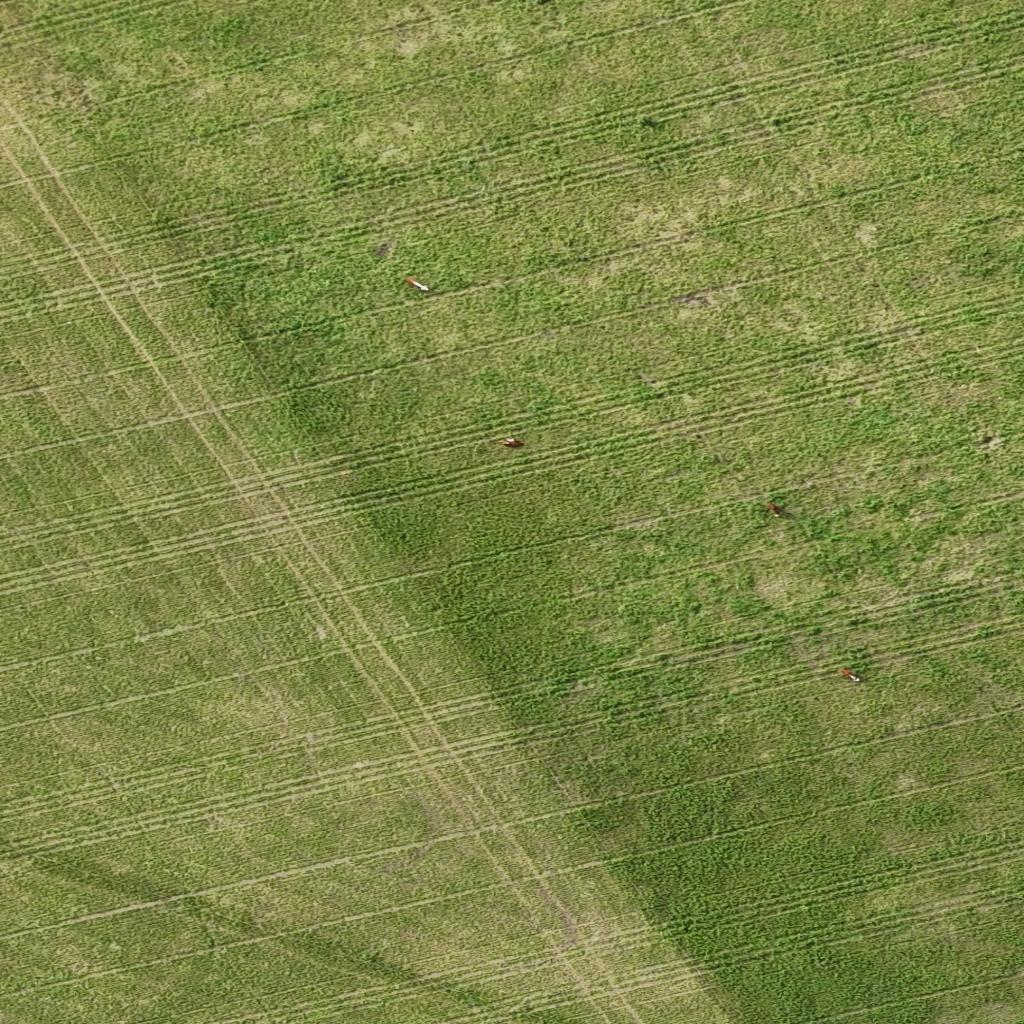cow: (832, 666, 864, 683), (396, 276, 425, 292), (762, 500, 787, 518), (500, 438, 524, 448)
